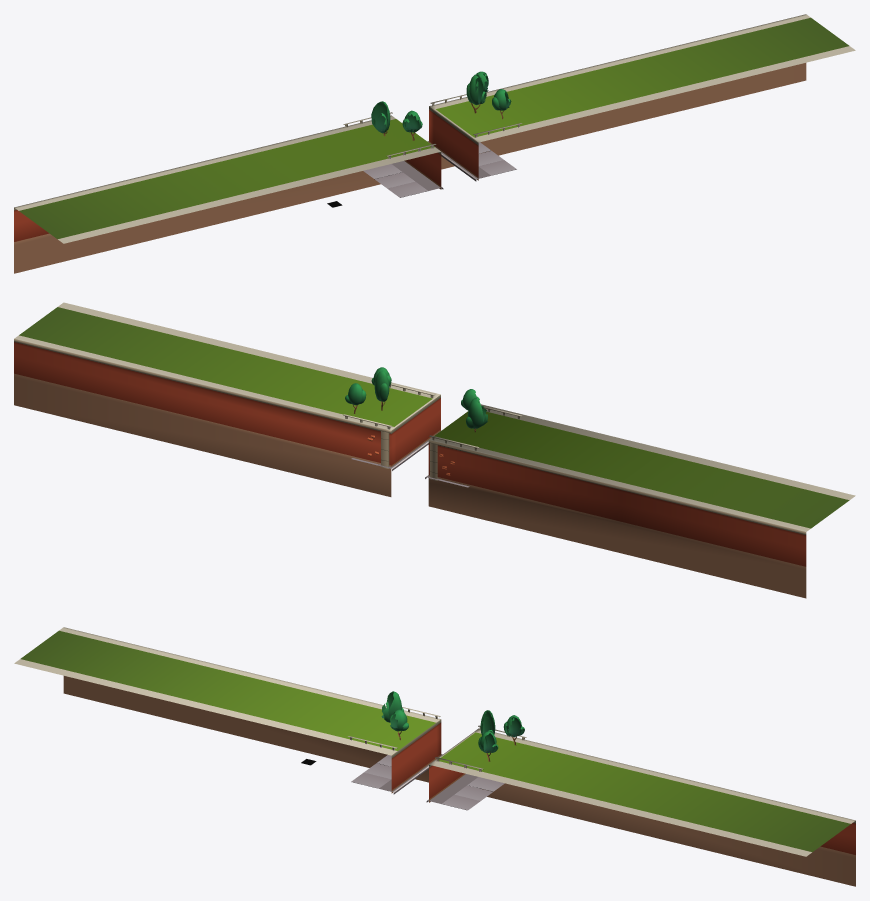
The model's file is CityArchAddon 1.fbx.
3 renders of one model, top to bottom at view 1: azimuth 30°, elevation 25°; view 2: azimuth 150°, elevation 25°; view 3: azimuth 330°, elevation 25°, orthographic.
Parts seen in each view (by area): view 1: CityArchAddon, shadows.001; view 2: CityArchAddon; view 3: CityArchAddon, shadows.001.
Part boxes in pixels (x1,y1,x2,y2): CityArchAddon: (14,14,855,273); shadows.001: (327,141,490,207); CityArchAddon: (14,302,855,598); CityArchAddon: (14,627,855,886); shadows.001: (301,754,477,803).
Size of the model in its own units: 8921 by 1138 by 1000.
